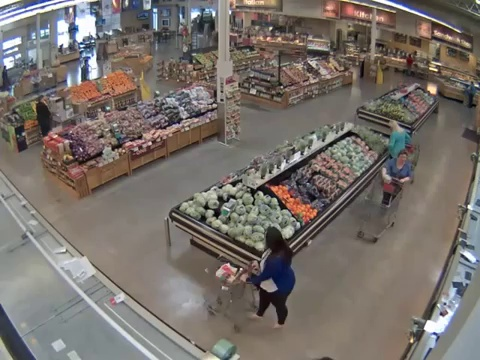face: (396, 154, 406, 163)
